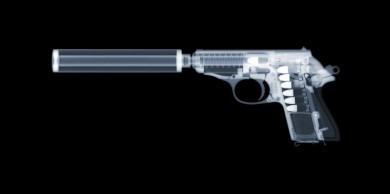gun: (46, 43, 346, 144)
